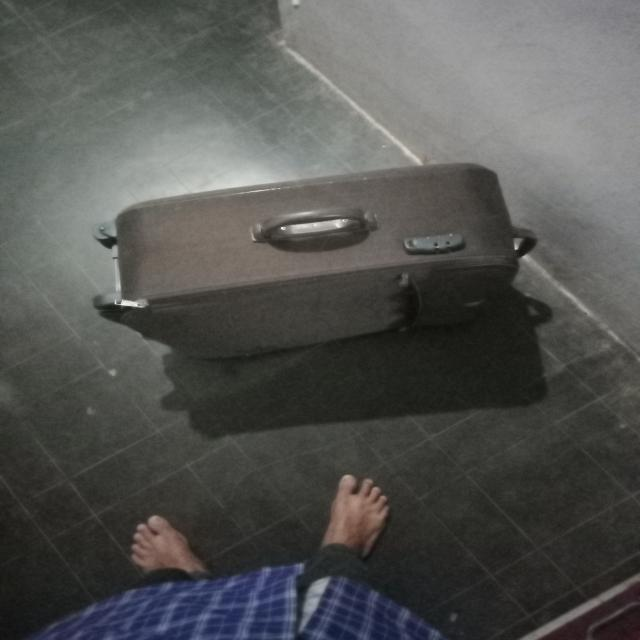suitcaserotation: (90, 157, 543, 365)
